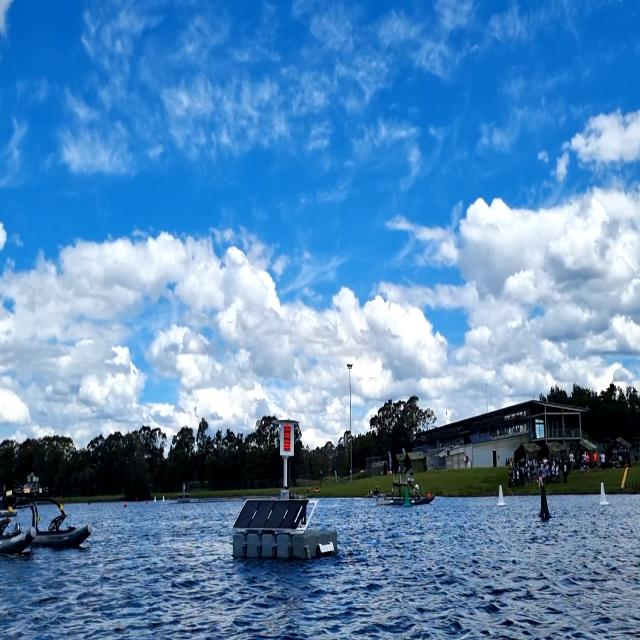led: (281, 423, 293, 454)
